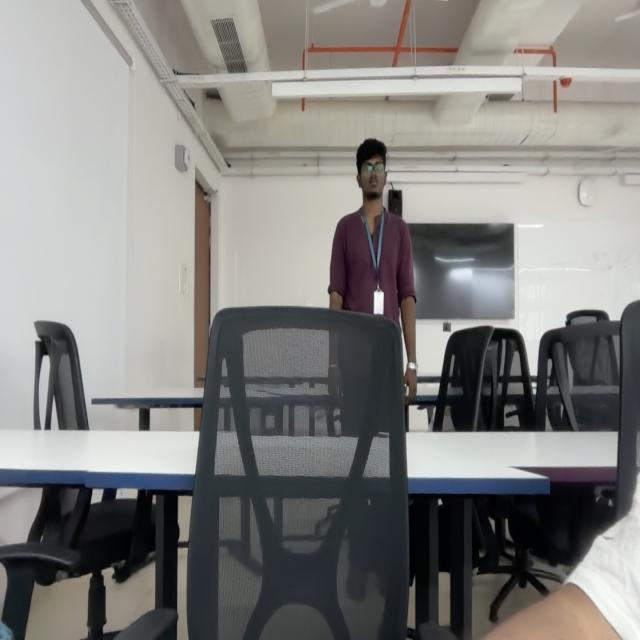ravindra: (356, 137, 388, 198)
